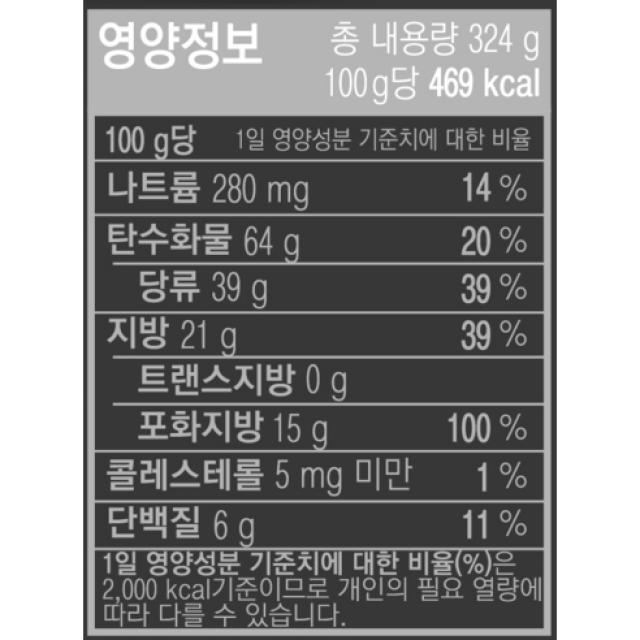Nutrition Label: (82, 1, 554, 640)
